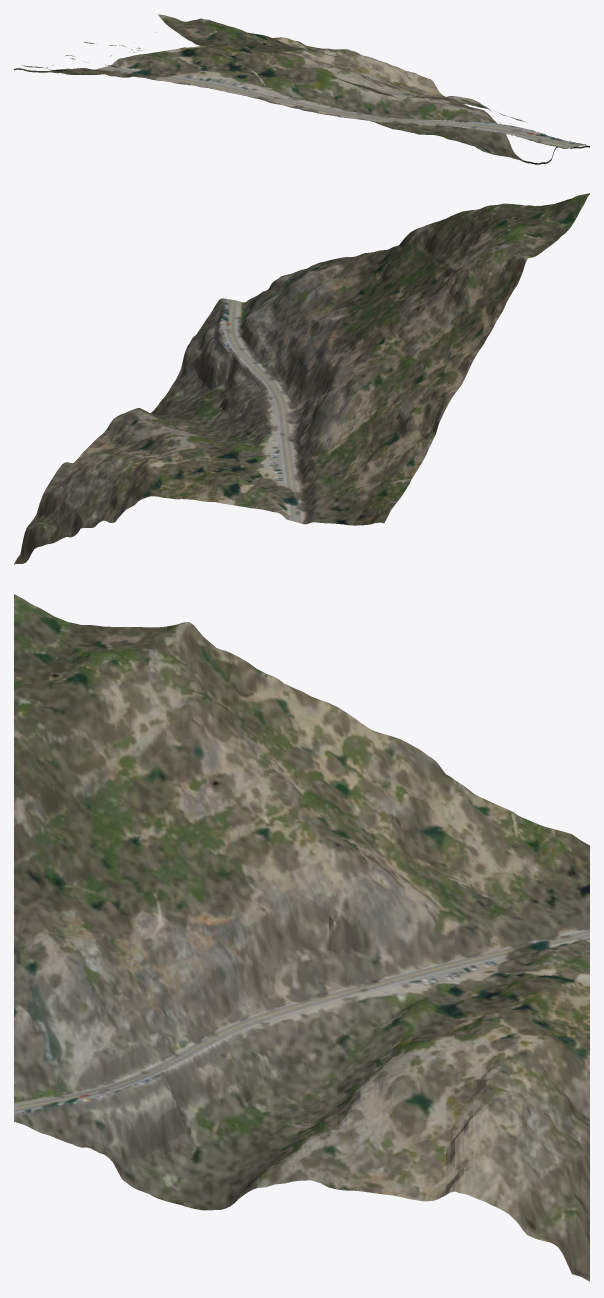
3 views of the same model, one above another, from view 1: azimuth 30°, elevation 25°; view 2: azimuth 150°, elevation 25°; view 3: azimuth 270°, elevation 25° (orthographic). The views are drawn at different scales.
Size of the model in its own units: 250 by 201 by 241.
1 material, 1 textured.
